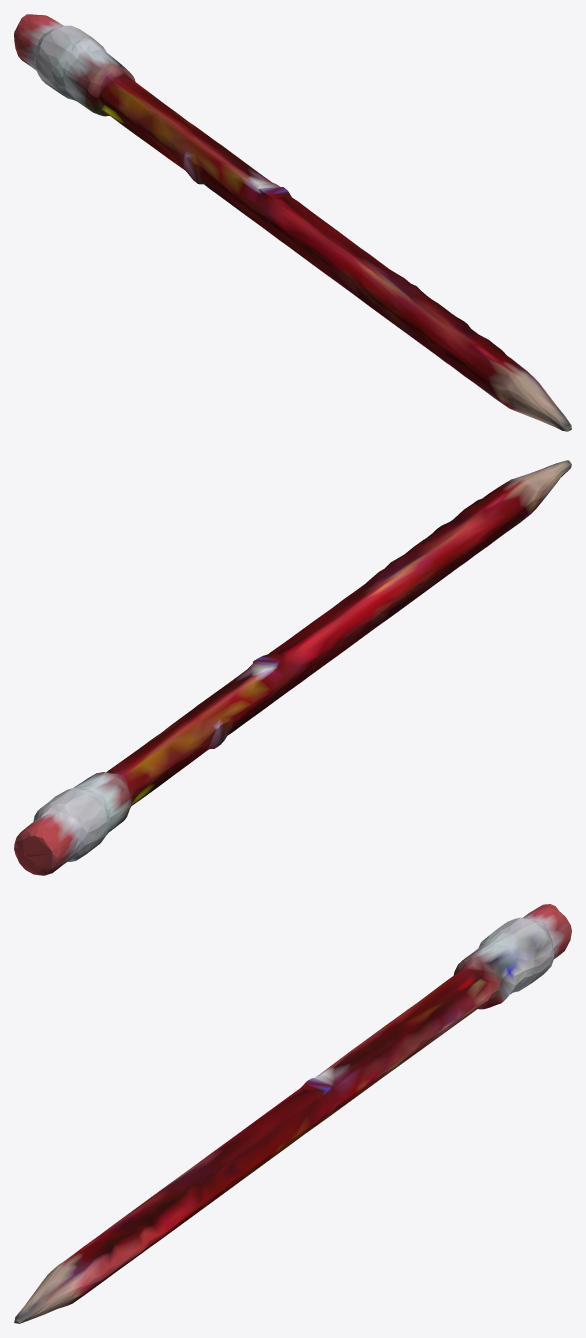
Rendered from scan.obj.
3 views of the same model, one above another, from view 1: azimuth 30°, elevation 25°; view 2: azimuth 150°, elevation 25°; view 3: azimuth 330°, elevation 25° (orthographic).
Parts seen in each view (by area): view 1: scan.ply; view 2: scan.ply; view 3: scan.ply.
Part boxes in pixels (x1,y1,x2,y2): scan.ply: (14,14,571,431); scan.ply: (14,460,571,875); scan.ply: (14,904,571,1323).
Size of the model in its own units: 0.0117 by 0.0116 by 0.1938.
